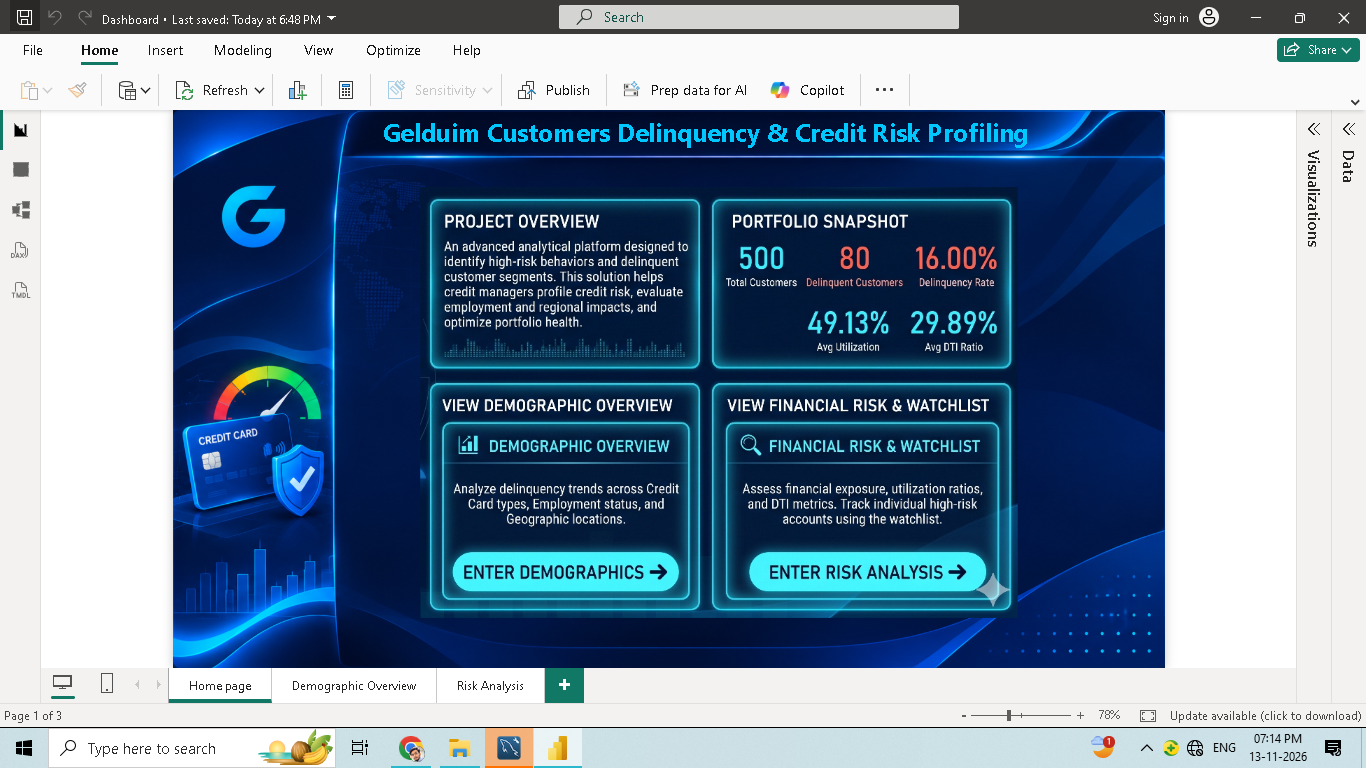

This screenshot's page, from the dashboard's own definition file:
{"tool":"powerbi","page":{"name":"Home page","canvas":[1280,720],"ordinal":0},"visuals":[{"type":"textbox","box":[243.6,0,896,60.6],"z":0},{"type":"image","box":[310.4,99.2,786.6,555.6],"z":1000},{"type":"actionButton","box":[368.5,572.6,282,46.8],"z":2000},{"type":"actionButton","box":[746.9,572.6,301.9,46.8],"z":3000}]}

Visuals, with their boxes on the page's 1280x720 design canvas (x1, y1, x2, y2). These are canvas units, not pixel positions in the 1366x768 screenshot, which may show the page scaled, cropped or inside an application window:
textbox: bbox=(244, 0, 1140, 61)
image: bbox=(310, 99, 1097, 655)
actionButton: bbox=(368, 573, 650, 619)
actionButton: bbox=(747, 573, 1049, 619)
